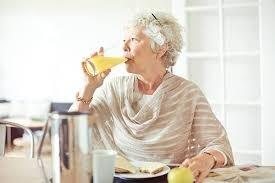Drinking: (81, 27, 169, 78)
